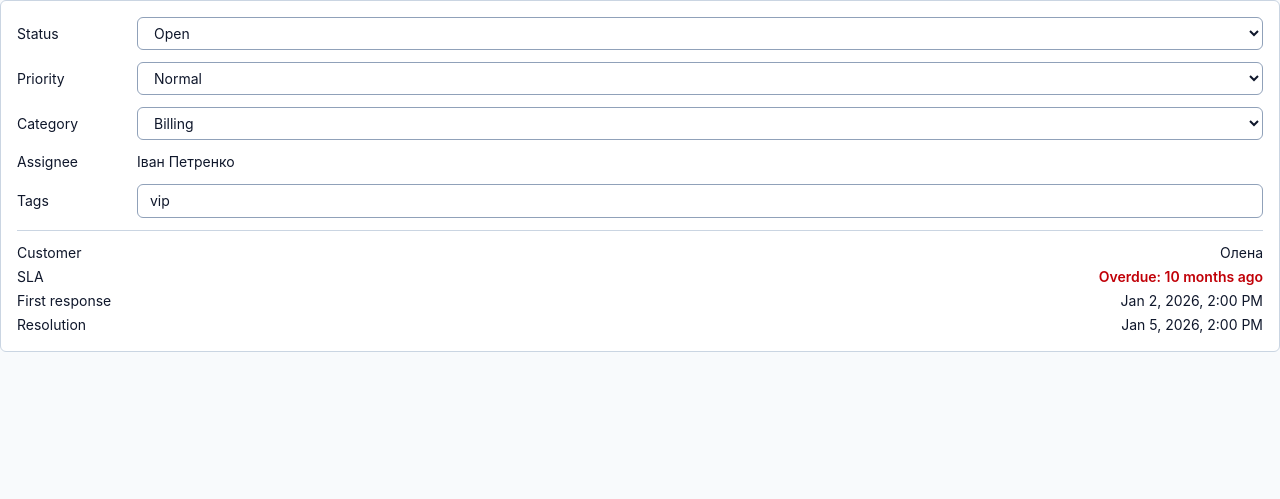
Test: SidePanel › handles 409 version_conflict by updating state and showing conflict banner
Select "Urgent" in the dropdown labelled "Priority" at (700, 78), box top-left (137, 62), bottom-right (1263, 95)
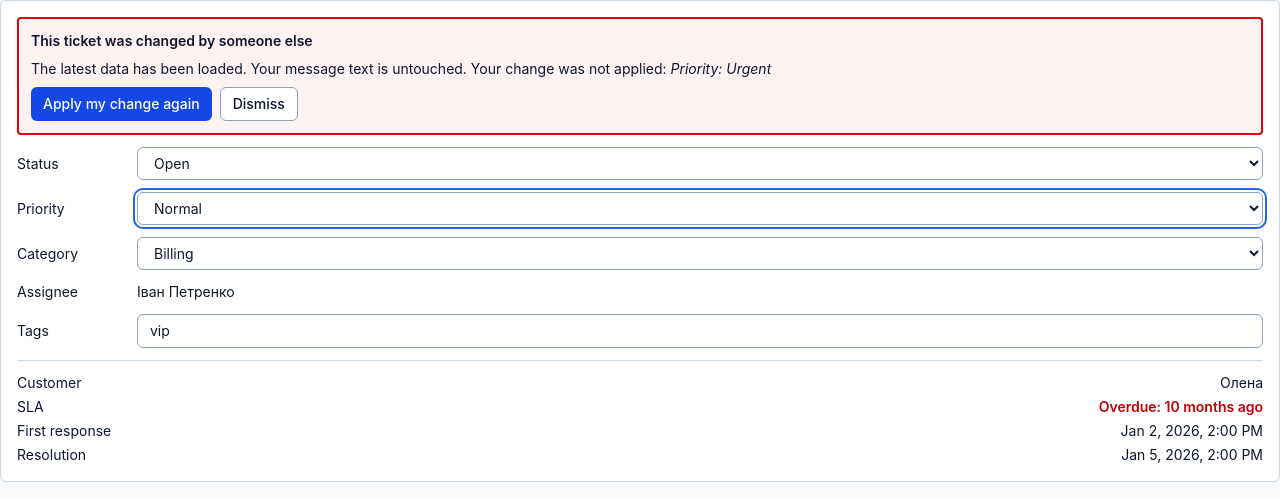
Now the message with test id "conflict-banner" is shown, box top-left (17, 17), bottom-right (1263, 135)
